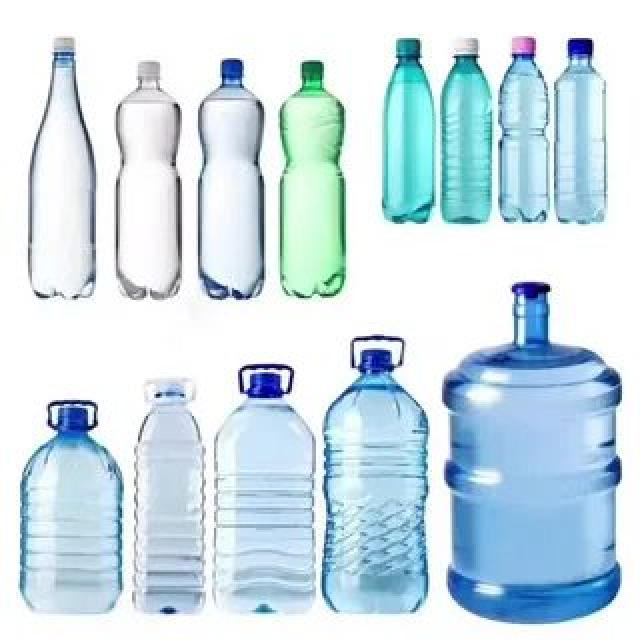blue: (443, 293, 621, 625), (324, 370, 428, 613), (214, 394, 316, 614), (18, 432, 122, 612), (197, 74, 266, 301), (498, 54, 549, 222), (556, 55, 606, 223)
green: (278, 74, 346, 299)
